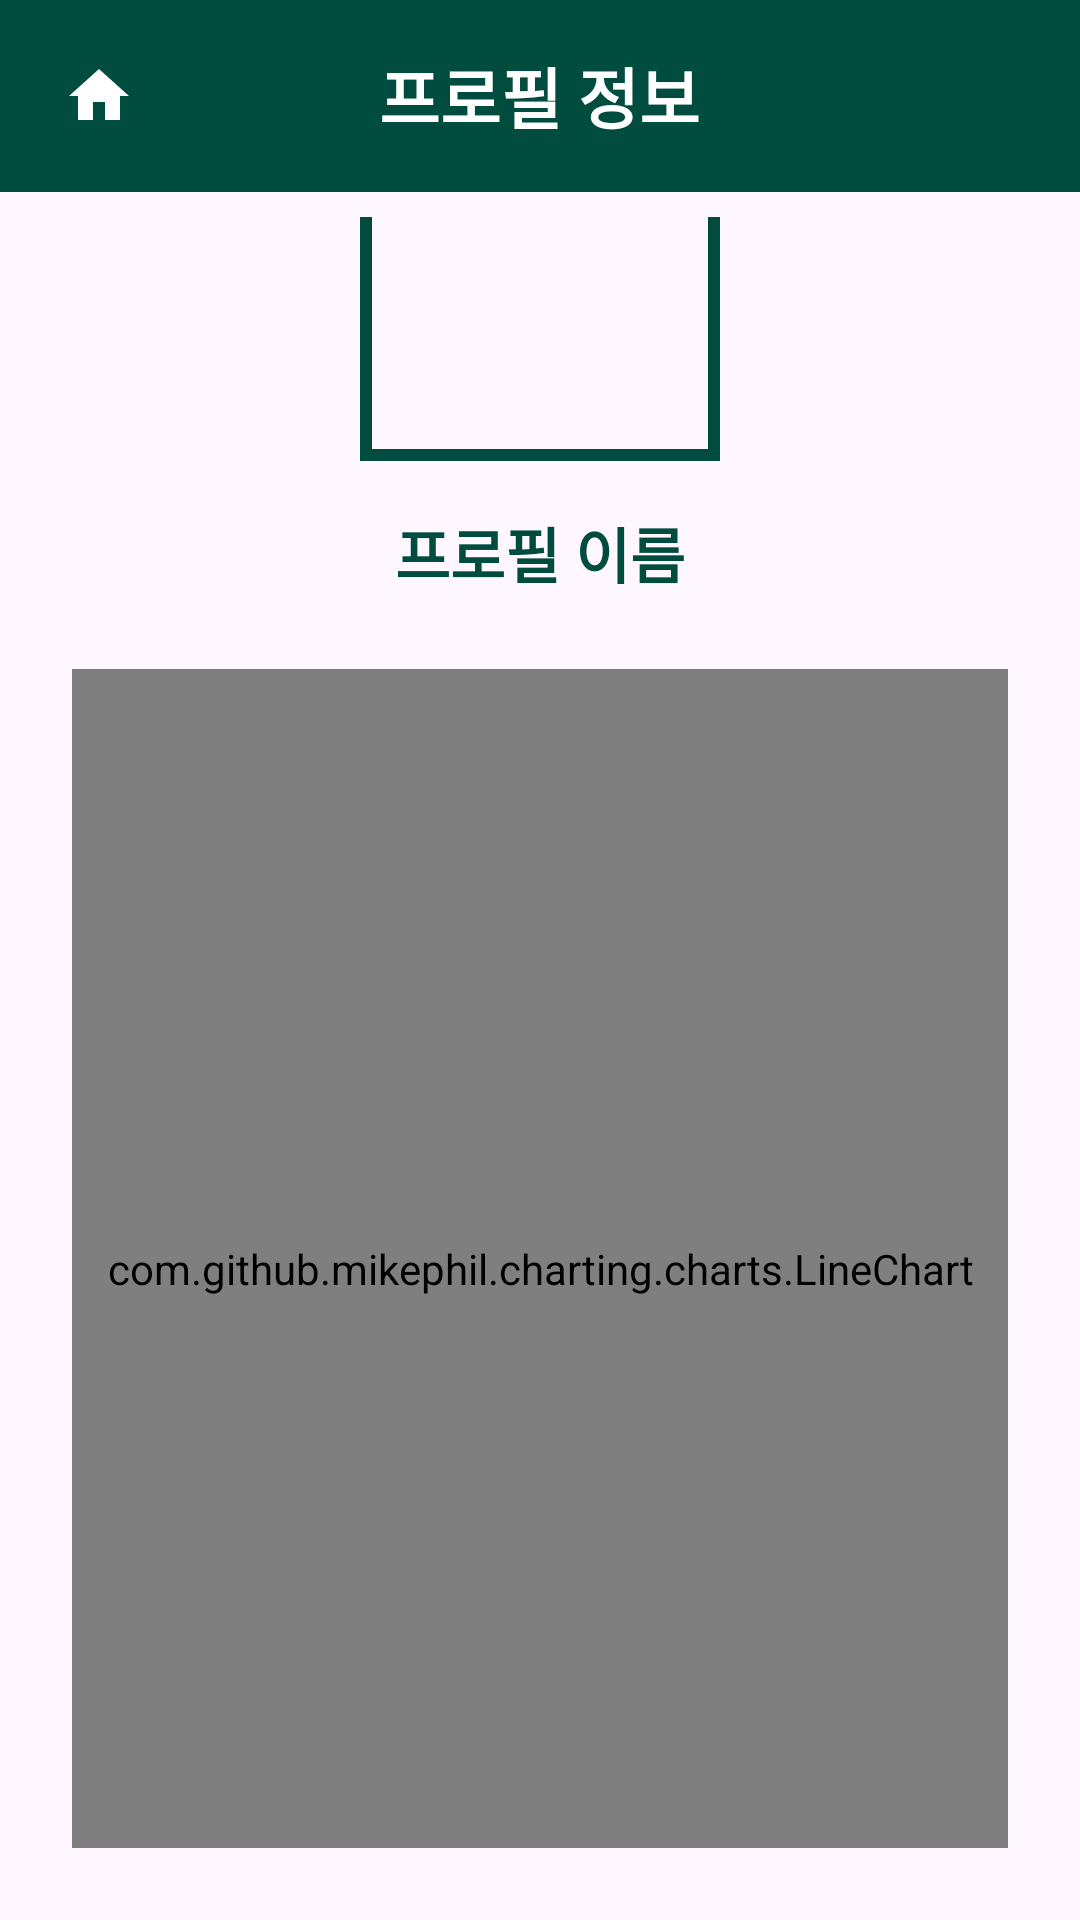

Locate icon controls on the screen. Image size 1080*1920, boxes as BBox(x1, y1, x2, y2).
home: BBox(69, 69, 129, 120)
